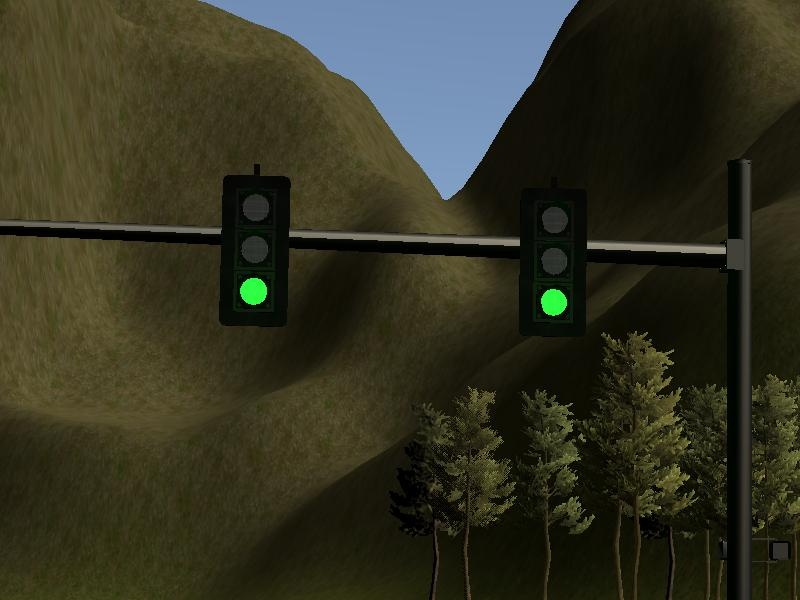green: (216, 171, 290, 332), (518, 185, 590, 341)
